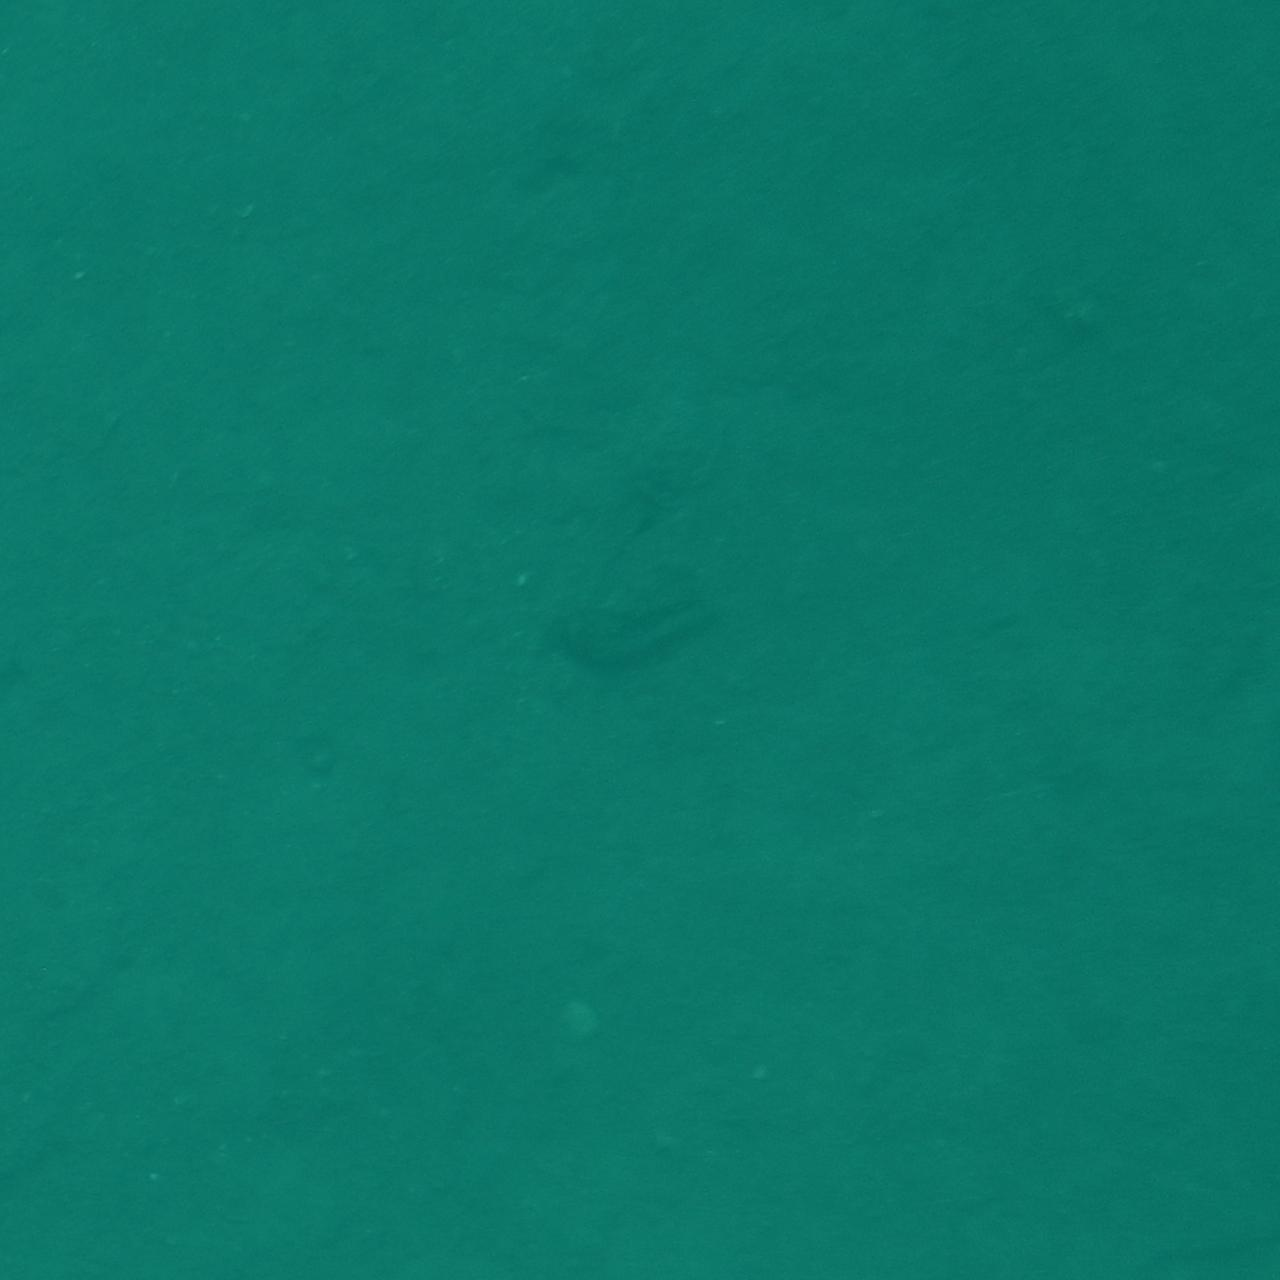Holothuria tubulosa: (538, 578, 742, 702)
